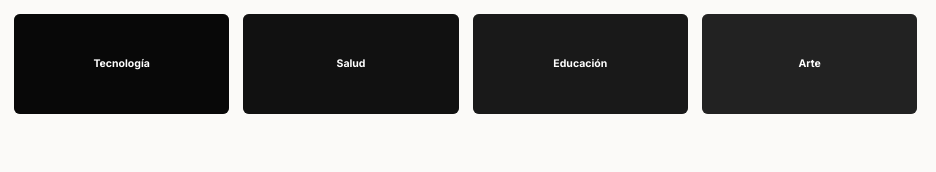
Test: CategoryPicker — max 3 selections › disables the remaining unselected categories once 3 are picked
Later steps or results of the test are not shown.
Step 1. Click the button titled "Tecnología" → (122, 64), box [12, 12, 231, 116]
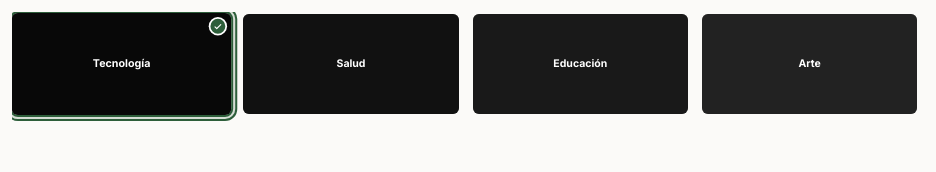
Step 2. Click the button titled "Salud" → (351, 64), box [241, 12, 461, 116]
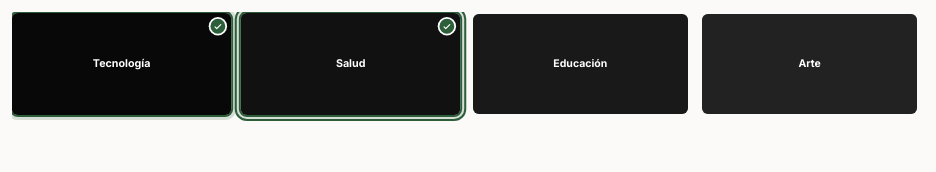
Step 3. Click the button titled "Educación" → (580, 64), box [471, 12, 690, 116]
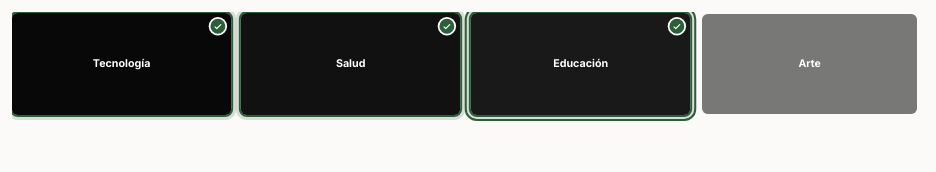
Expected: the button titled "Arte" is disabled, [700, 12, 919, 116]
